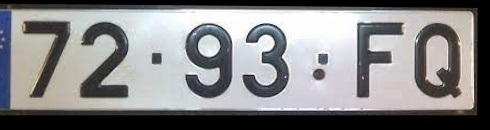2: (77, 17, 134, 102)
3: (240, 19, 292, 103)
7: (19, 18, 76, 103)
9: (179, 18, 236, 104)
F: (354, 20, 406, 99)
Q: (411, 19, 464, 100)
